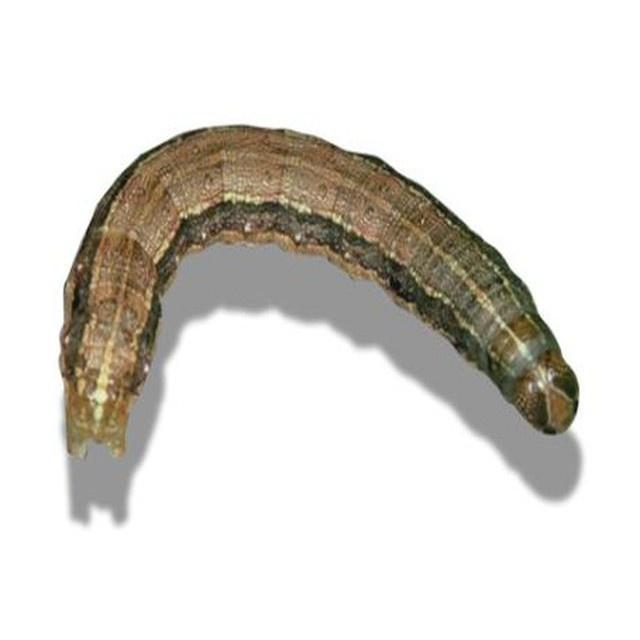Plaga: (59, 121, 581, 470)
